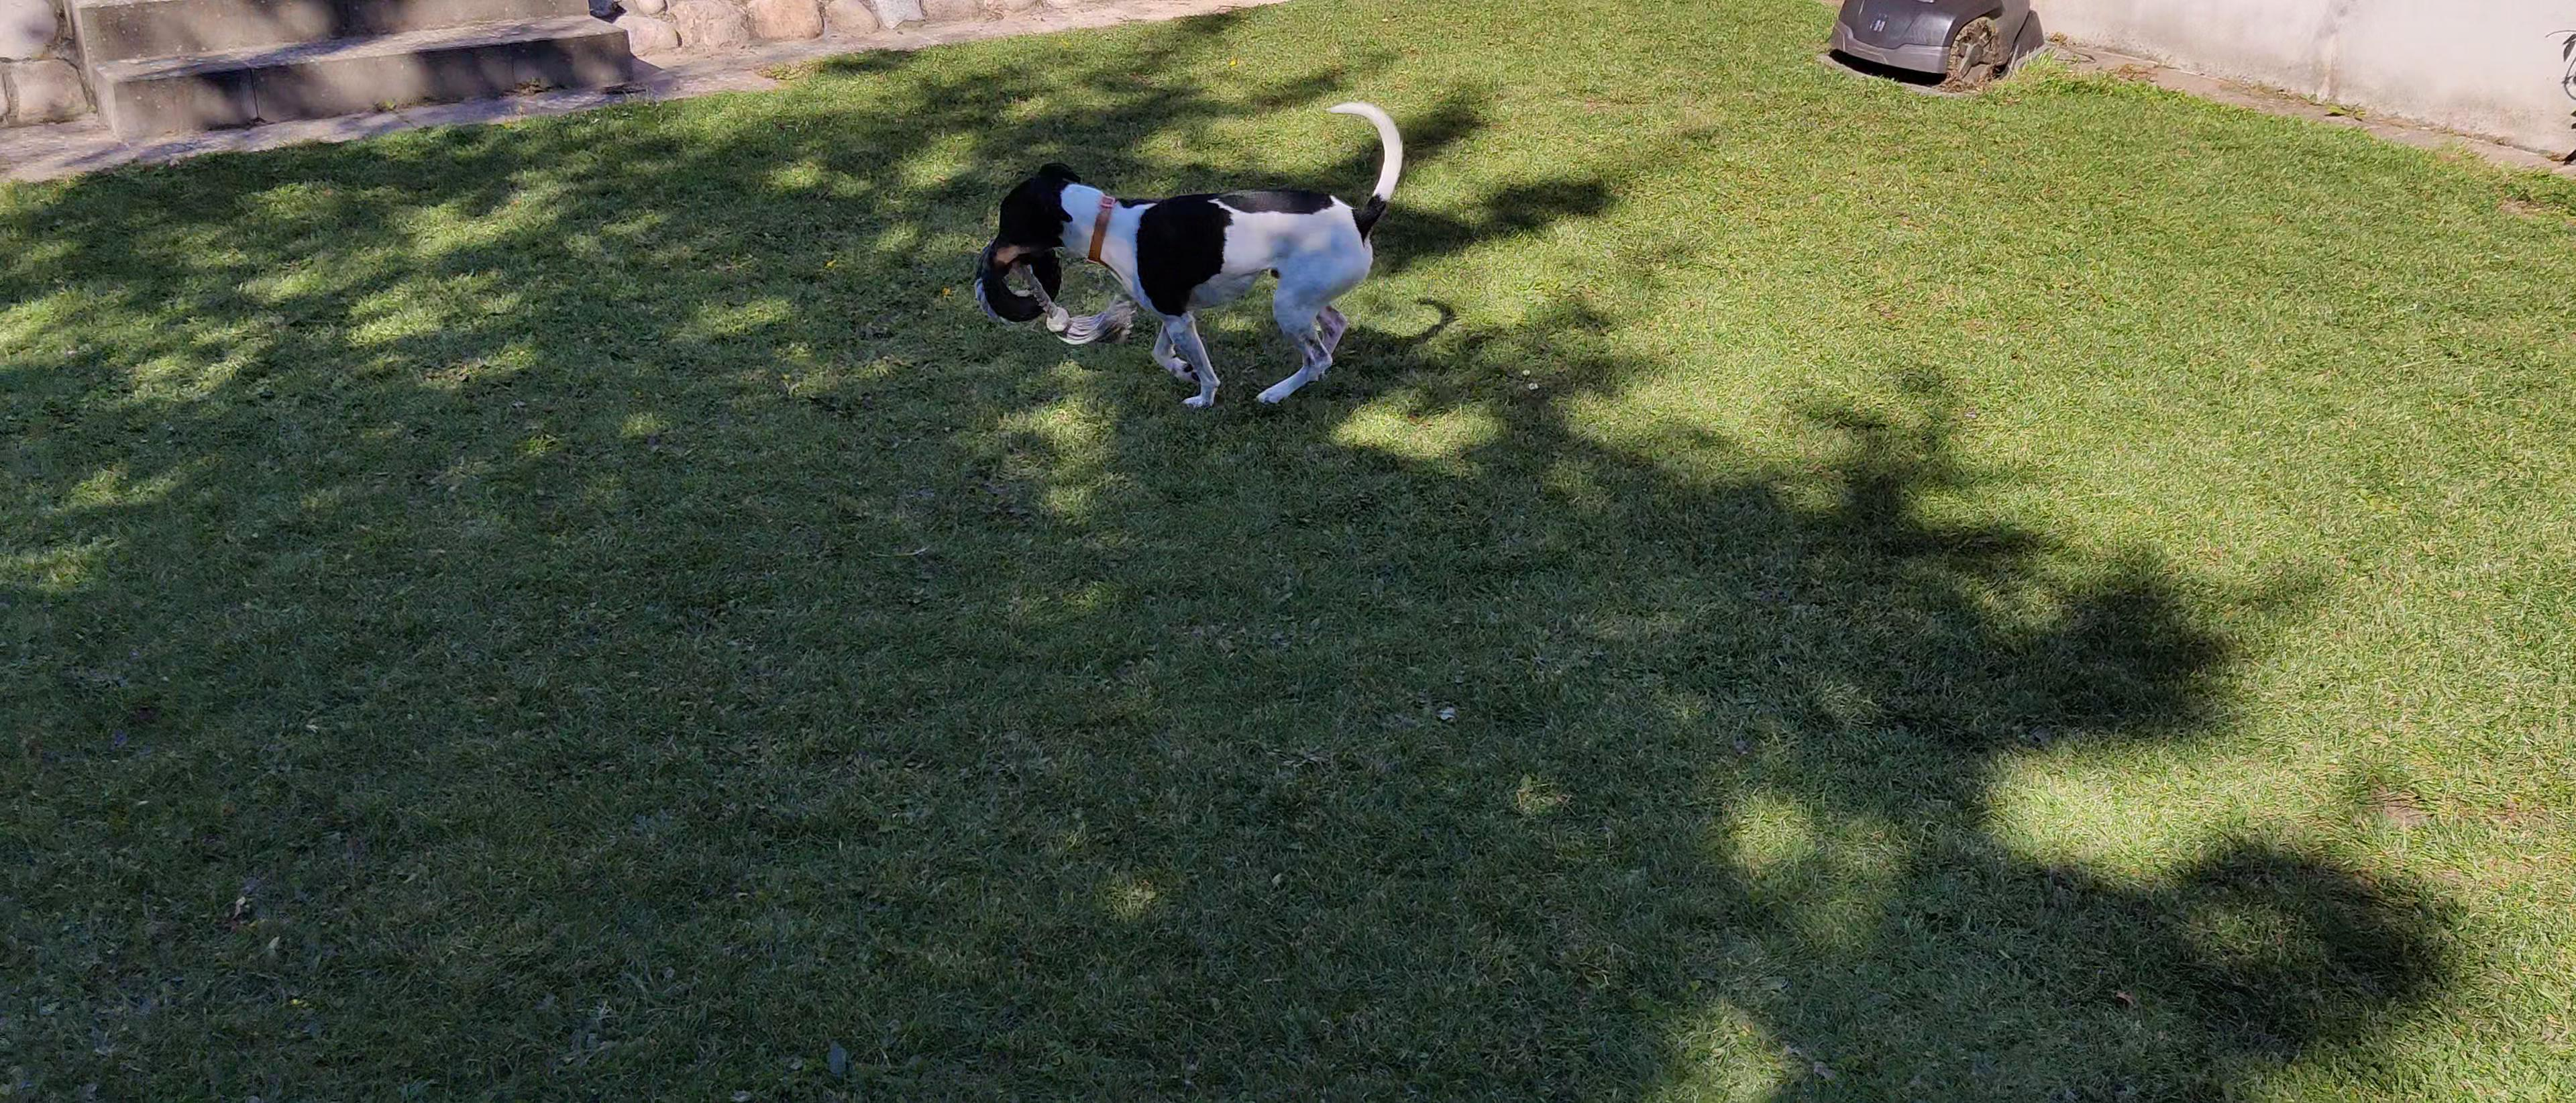Dog: (977, 95, 1406, 409)
